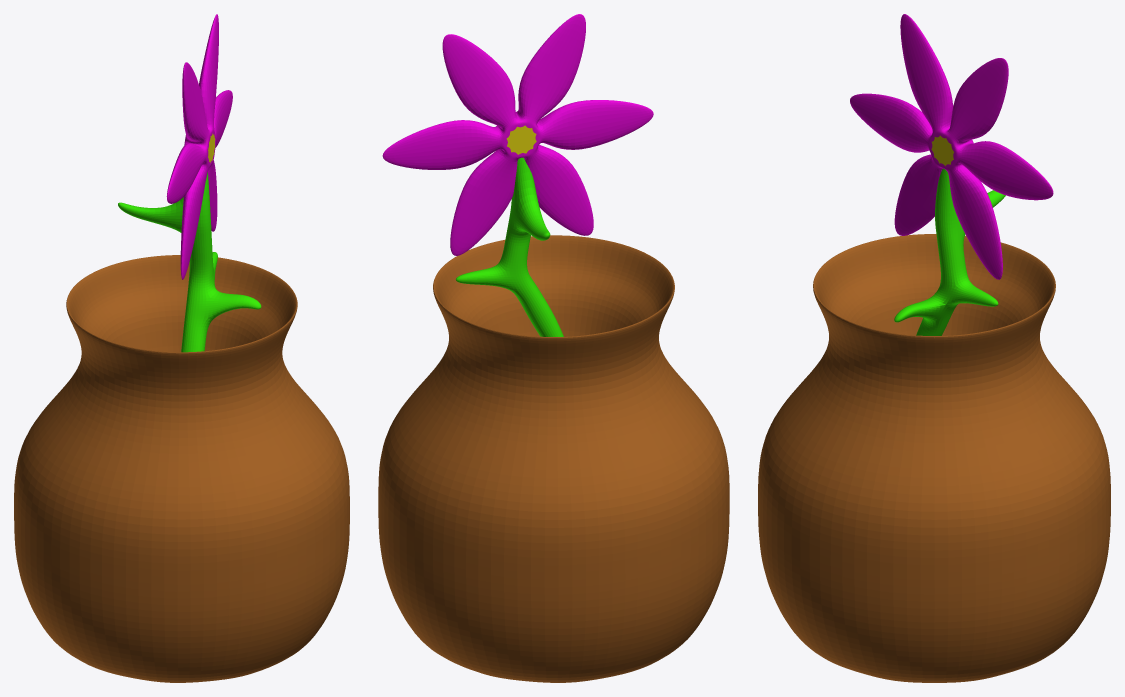
Rendered from flower+pot.fbx.
3 views of the same model, side by side, from view 1: azimuth 30°, elevation 25°; view 2: azimuth 150°, elevation 25°; view 3: azimuth 270°, elevation 25° (orthographic). The views are drawn at different scales.
Parts seen in each view (by area): view 1: Circle, Cube; view 2: Circle, Cube; view 3: Circle, Cube.
Boxes of the visible parts, x1=… form: Circle: x1=14, y1=255, x2=349, y2=682; Cube: x1=118, y1=14, x2=261, y2=352; Circle: x1=378, y1=235, x2=729, y2=682; Cube: x1=382, y1=14, x2=653, y2=336; Circle: x1=758, y1=234, x2=1110, y2=682; Cube: x1=850, y1=14, x2=1053, y2=335.
Size of the model in its own units: 215 by 419 by 215.
